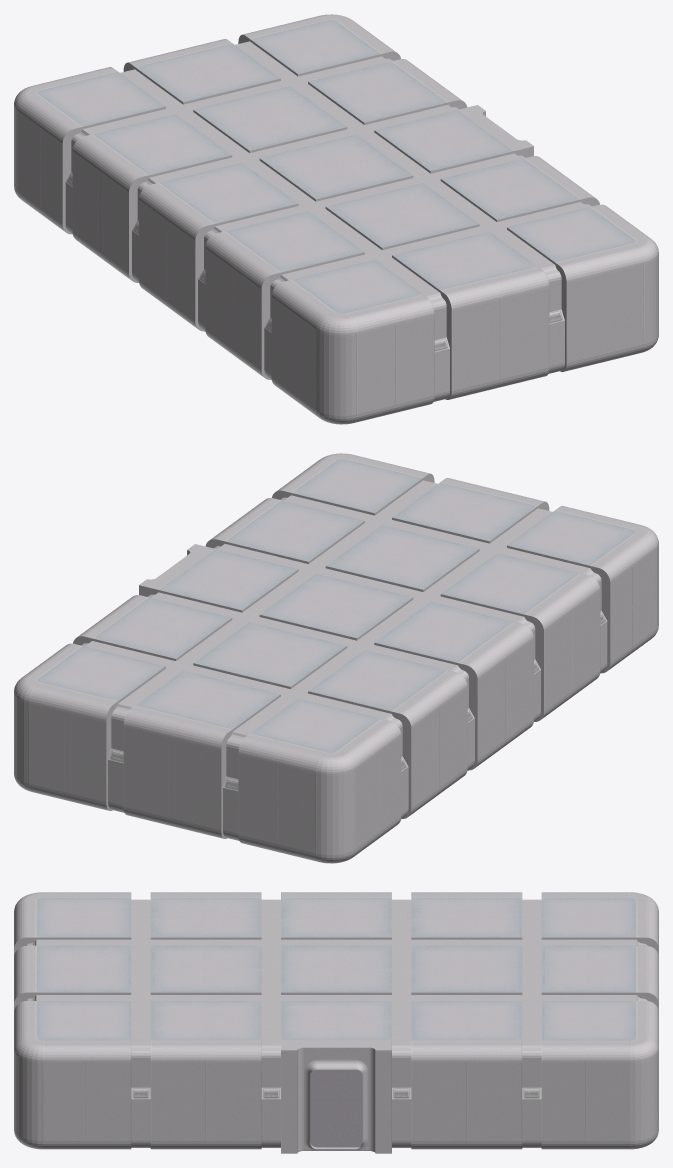
The model's file is thm_spc_corvette_dungeon_r33_messhall33_mesh_r33.fbx.
3 views of the same model, one above another, from view 1: azimuth 30°, elevation 25°; view 2: azimuth 150°, elevation 25°; view 3: azimuth 270°, elevation 25° (orthographic).
Parts seen in each view (by area): view 1: mesh_node; view 2: mesh_node; view 3: mesh_node.
Part boxes in pixels (x1,y1,x2,y2): mesh_node: (14,14,658,424); mesh_node: (14,453,658,863); mesh_node: (14,892,658,1153).
Bounding box in the file's own units: 11.9 × 3.5 × 19.8.
